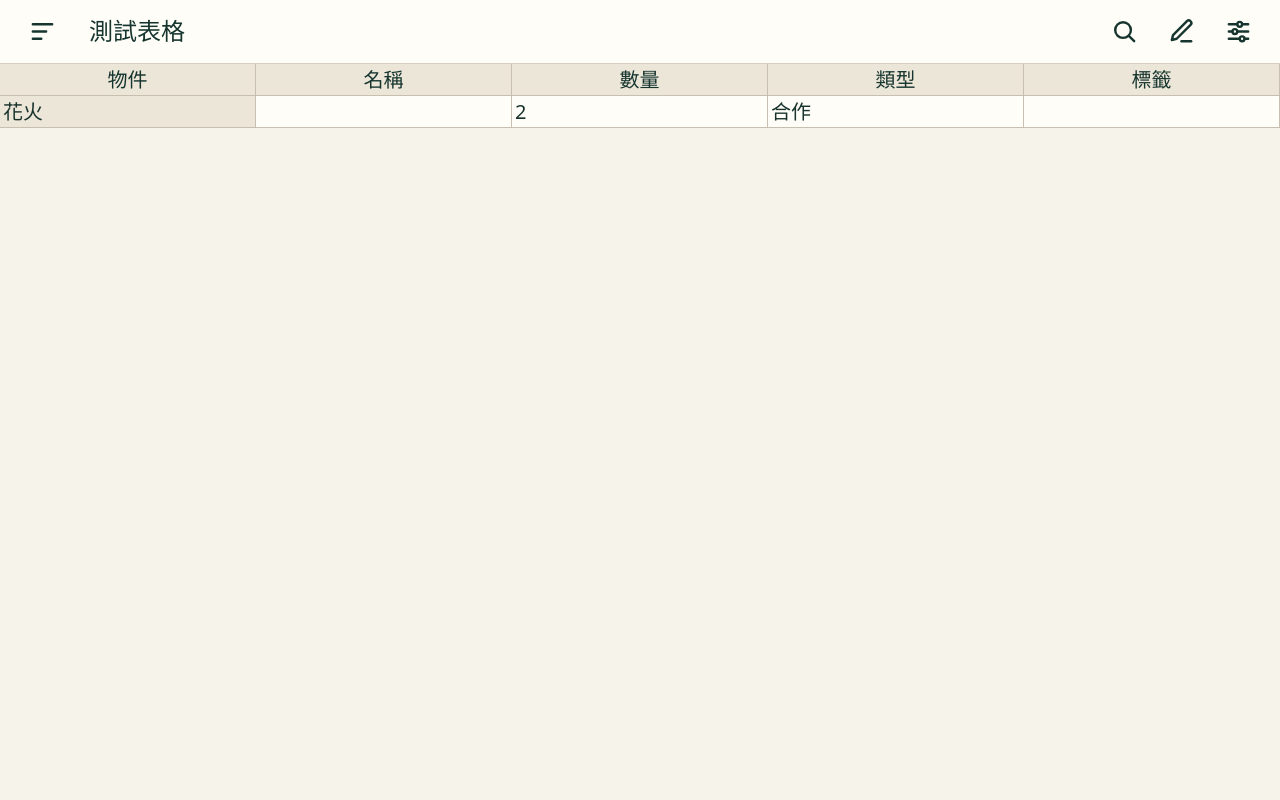
Test: WorkspacePage.bulk › supports vertical numeric adjustments with decimal-point alignment
Click the cell named "花火，數量：2" at (640, 112), box [512,96,768,128]
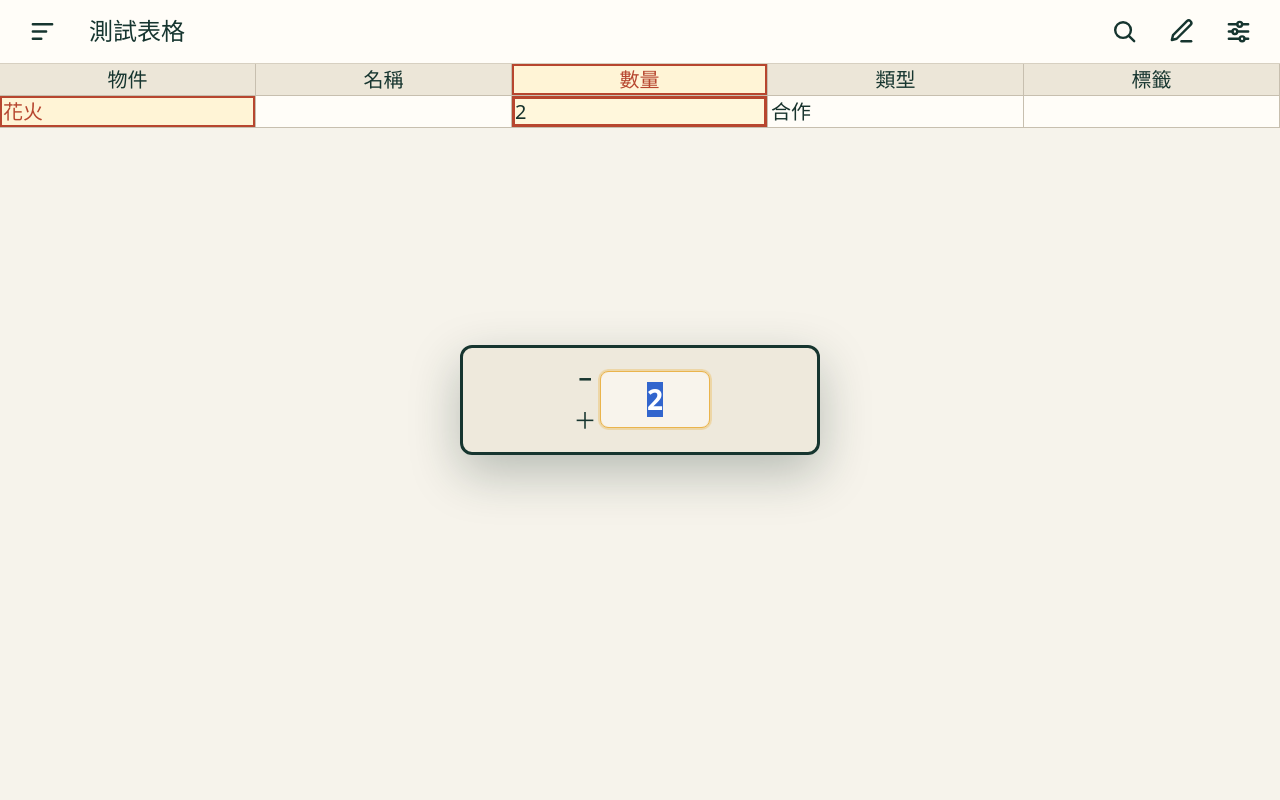
Click the button named "增加數值" at (585, 420), box [570,400,600,440]
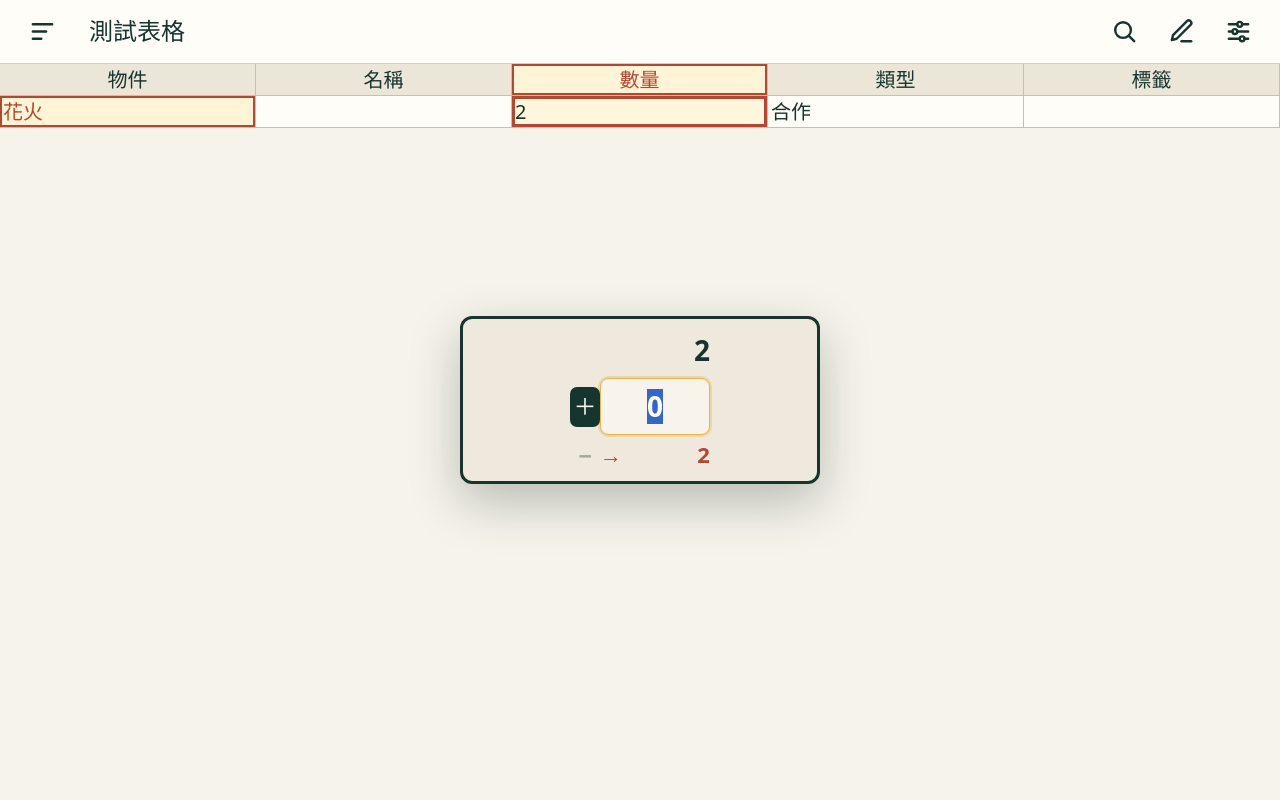
Now the number field named "數量輸入加法" holds "0"
Now the message named "數量計算結果" reads "→ 2", box [600,435,710,475]
Type "0.25" into the number field named "數量輸入加法" at (655, 406), box [601,379,709,434]
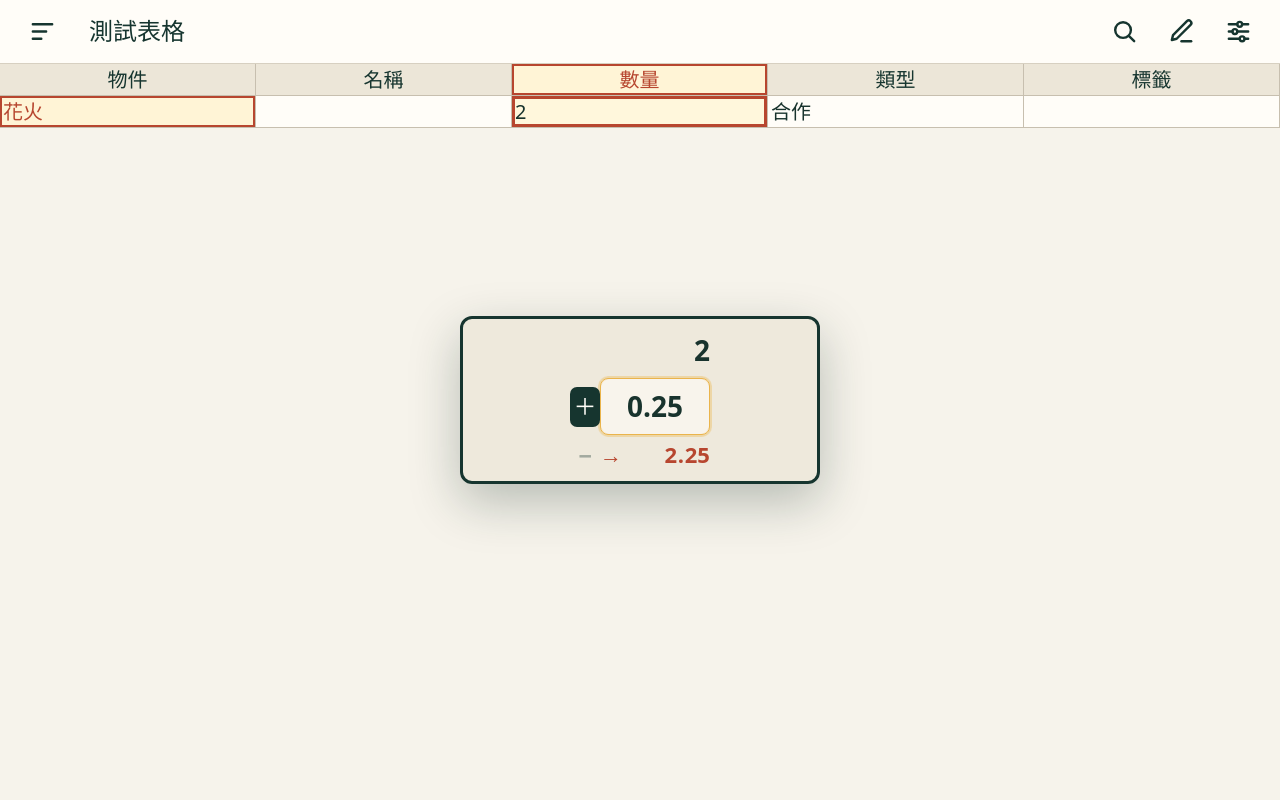
Now the button named "編輯原始數值 2" reads "2", box [600,323,710,378]
Now the message named "數量計算結果" reads "→ 2 . 25", box [600,435,710,475]
Click the element with class "workspace-value-dialog-overlay" at (640, 400), box [460,316,820,484]
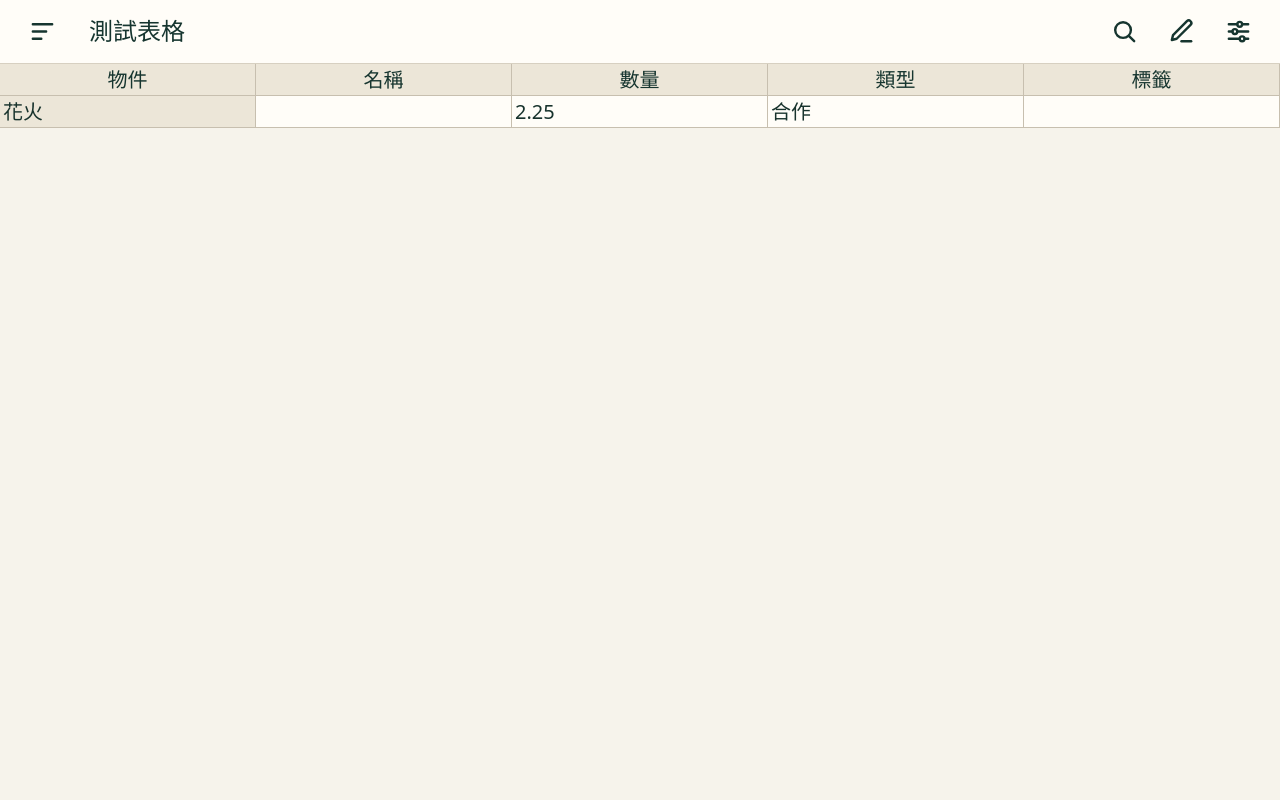
Now the dialog is gone
Now the cell named "花火，數量：2.25" is shown, box [512,96,768,128]
